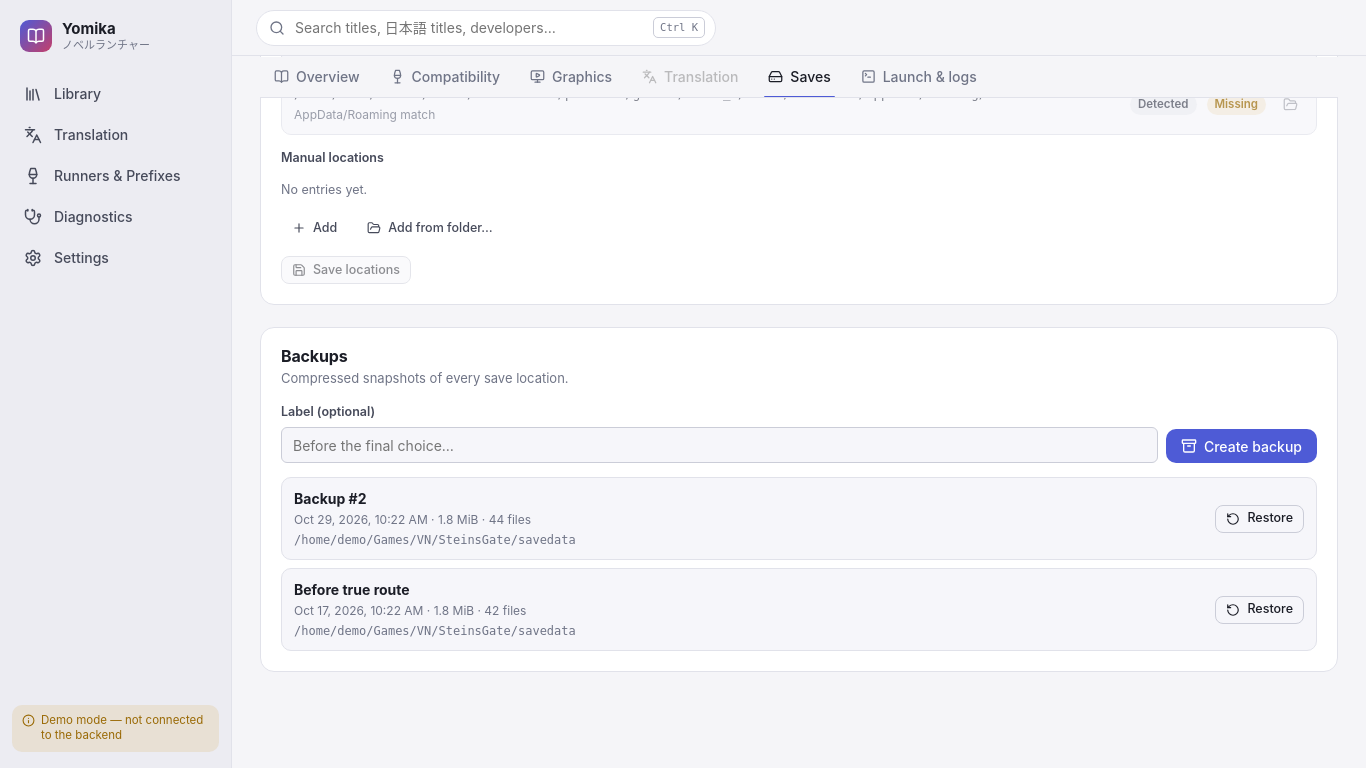
Test case: saves › creates a labelled backup
(page scrolled)
Type "Chapter 3" into the field labelled "Label (optional)".
click(720, 445); type("Chapter 3")  # box [281,427,1158,463]
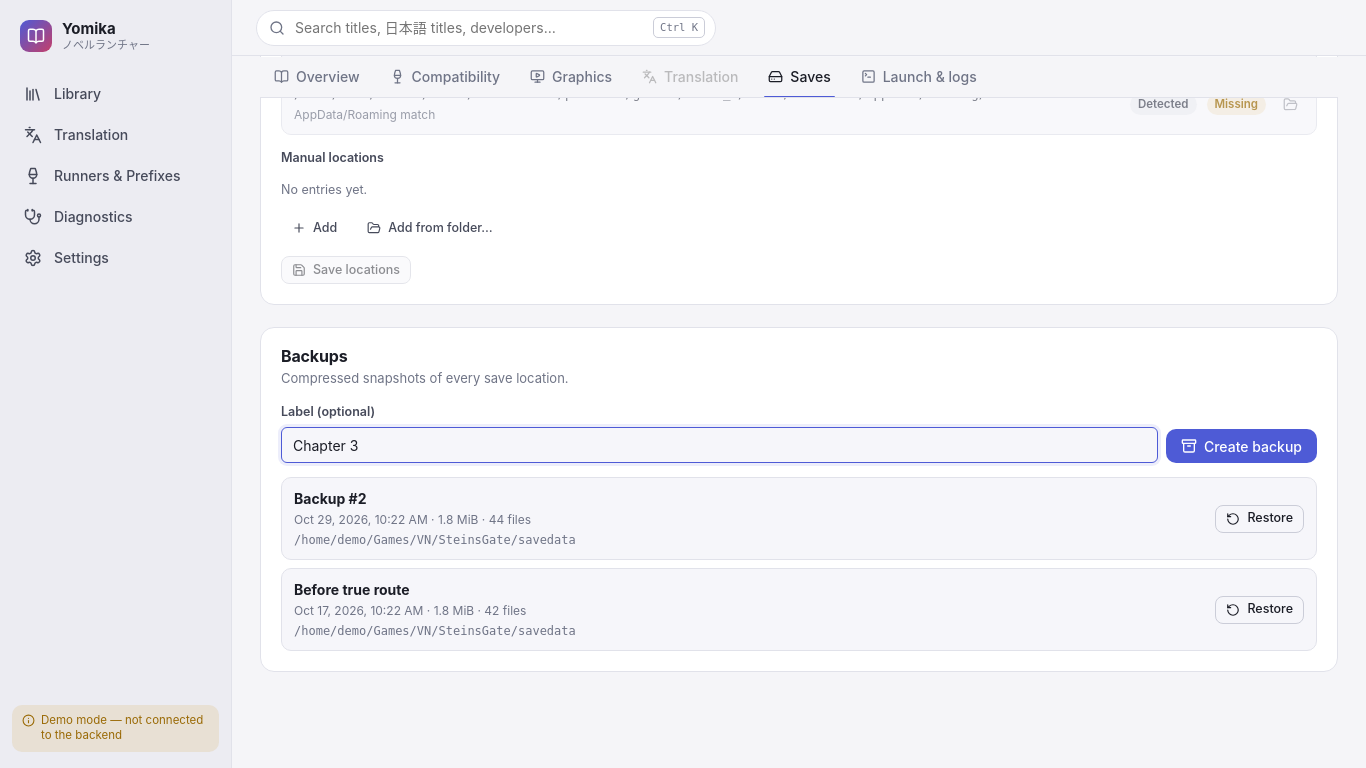
Click the button "Create backup".
click(1242, 446)  # box [1166,429,1317,463]
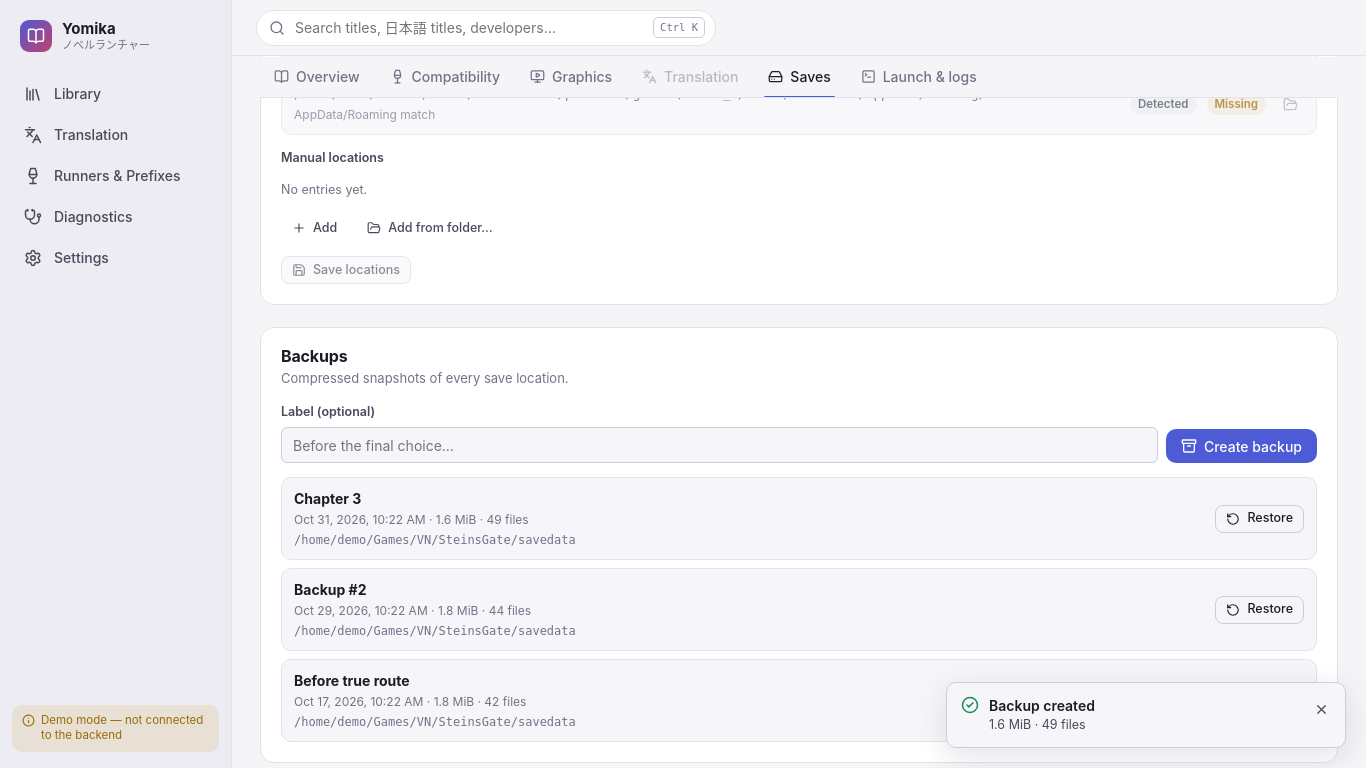
Check: the text "Chapter 3" is shown, box [294,490,361,507]
